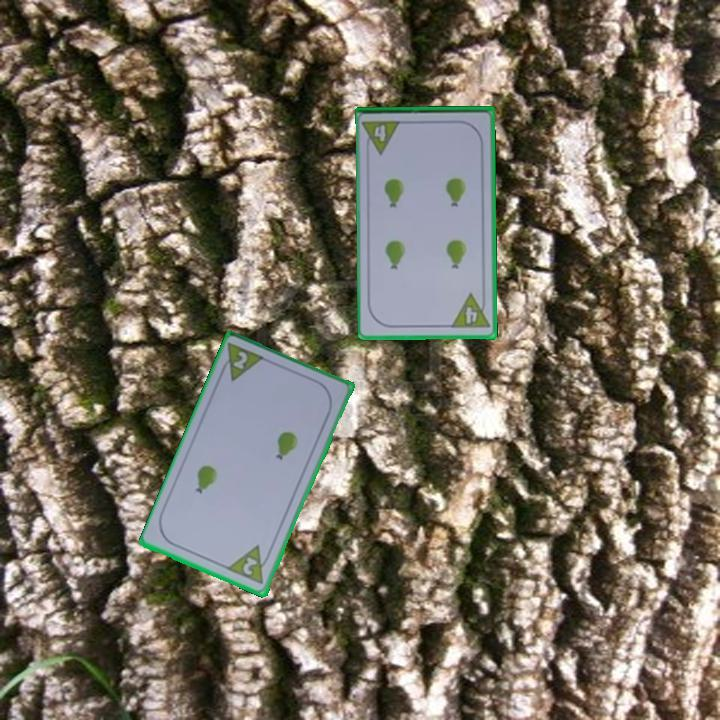2p: (215, 340, 268, 385), (225, 542, 275, 588)
4p: (448, 290, 492, 331), (360, 117, 404, 156)
